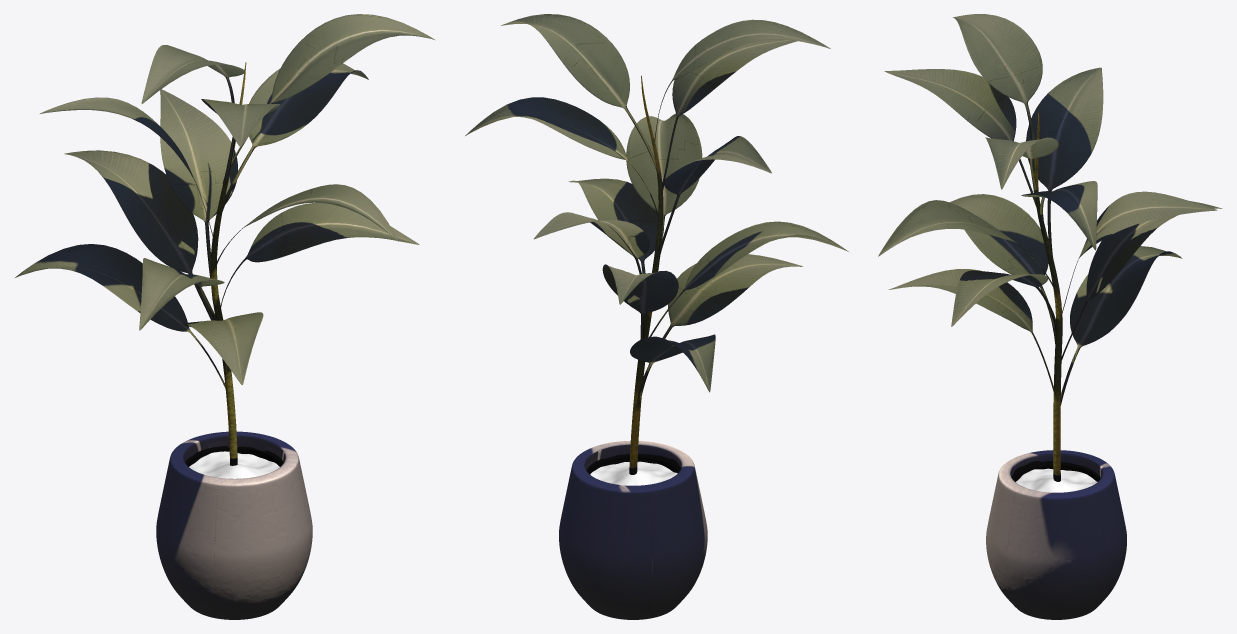
Rendered from plantb.glb.
3 views of the same model, side by side, from view 1: azimuth 30°, elevation 25°; view 2: azimuth 150°, elevation 25°; view 3: azimuth 270°, elevation 25° (orthographic). The views are drawn at different scales.
Visible parts, largest first — view 1: Leaves, Pot, Stem; view 2: Leaves, Pot, Stem; view 3: Leaves, Pot, Stem.
Part boxes in pixels (box(x1,y1,x2,y2)): Leaves: box(15, 14, 435, 388); Pot: box(156, 431, 312, 619); Stem: box(210, 62, 246, 465); Leaves: box(465, 14, 848, 400); Pot: box(559, 441, 707, 619); Stem: box(629, 75, 663, 474); Leaves: box(878, 14, 1222, 405); Pot: box(986, 450, 1126, 619); Stem: box(1034, 111, 1062, 481).
Size of the model in its own units: 0.516 by 0.8604 by 0.5003.
5 materials, 3 textured.
